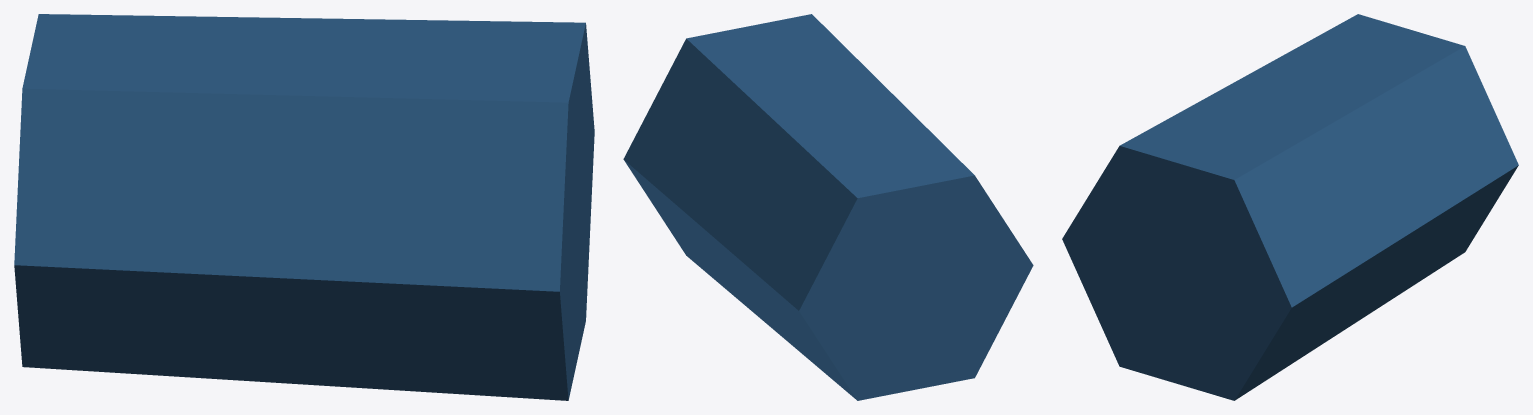
The model's file is rm2_leg_rr_coxa.obj.
3 renders of one model, left to right at view 1: azimuth 30°, elevation 25°; view 2: azimuth 150°, elevation 25°; view 3: azimuth 270°, elevation 25°, orthographic. The views are drawn at different scales.
Parts seen in each view (by area): view 1: rm2_leg_rr_coxa; view 2: rm2_leg_rr_coxa; view 3: rm2_leg_rr_coxa.
Boxes of the visible parts, box(x1,y1,x2,y2) form: rm2_leg_rr_coxa: box(14, 14, 594, 400); rm2_leg_rr_coxa: box(623, 14, 1033, 400); rm2_leg_rr_coxa: box(1062, 14, 1518, 400).
Size of the model in its own units: 0.1564 by 0.0779 by 0.1461.
